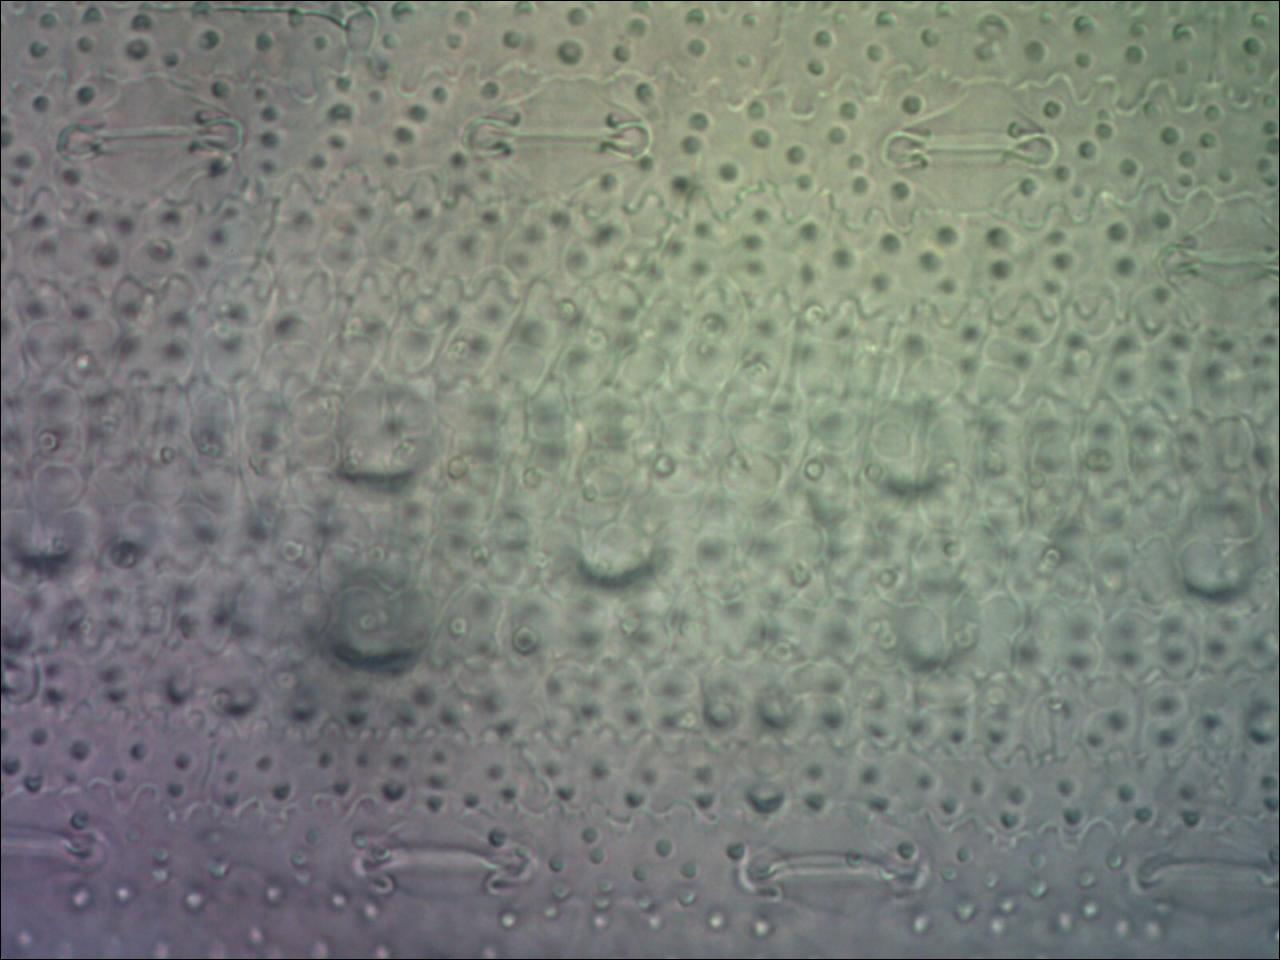stoma: (51, 75, 242, 203), (462, 73, 646, 200), (885, 80, 1056, 215), (735, 810, 926, 924), (346, 812, 532, 906), (1151, 203, 1280, 319), (1136, 821, 1280, 921), (1, 789, 113, 883)
